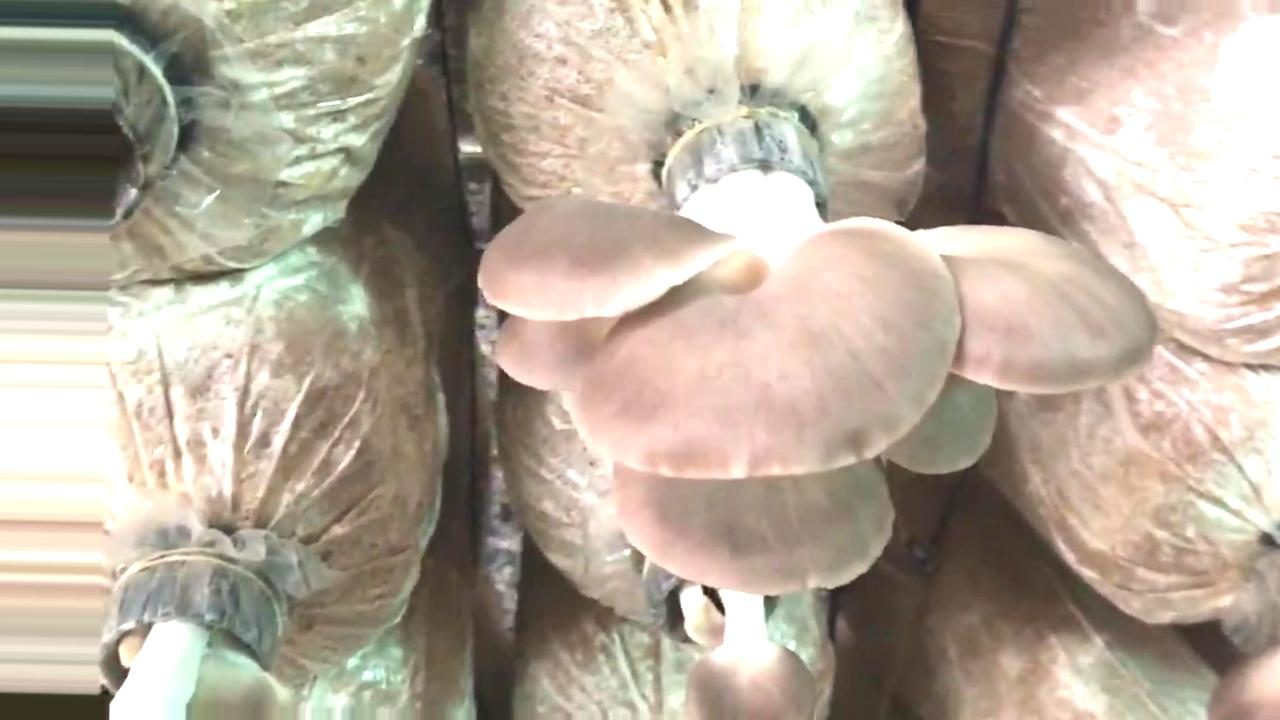nam: (476, 116, 1152, 592), (99, 555, 288, 720), (643, 551, 814, 719), (1209, 652, 1280, 720)
